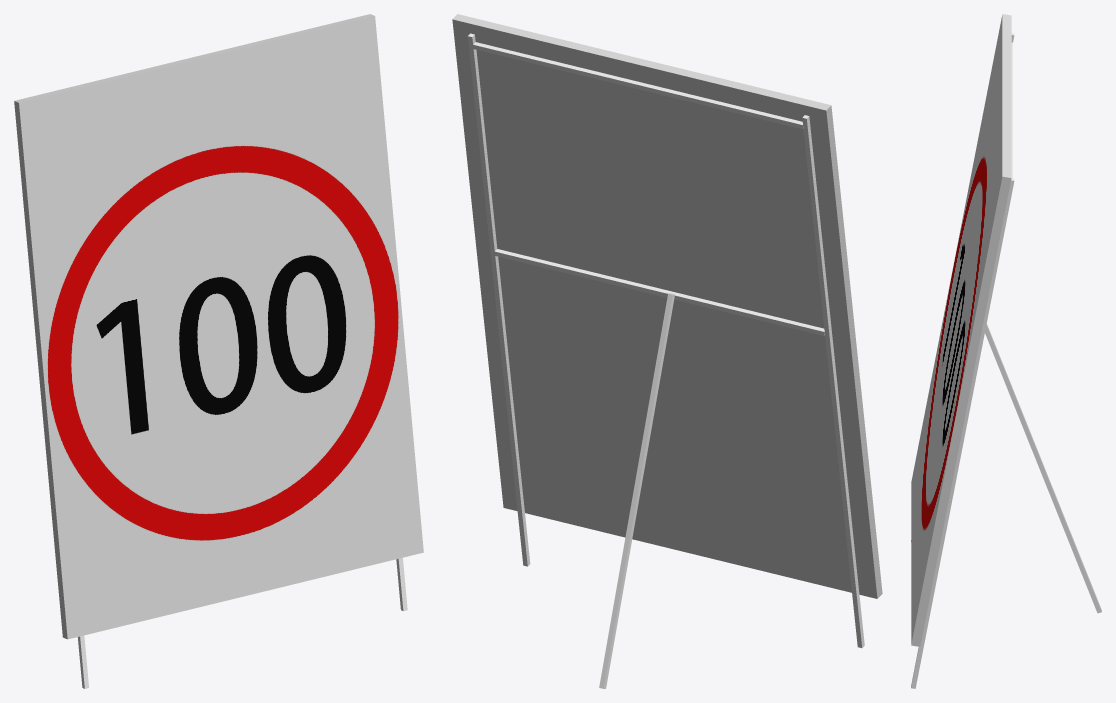
3 views of the same model, side by side, from view 1: azimuth 30°, elevation 25°; view 2: azimuth 150°, elevation 25°; view 3: azimuth 270°, elevation 25° (orthographic). The views are drawn at different scales.
Parts seen in each view (by area): view 1: 立方体-材质.3, 立方体-材质.5; view 2: 立方体-材质.5, 立方体.4, 立方体.3, 立方体.7, 立方体.5, 立方体.6; view 3: 立方体-材质.3, 立方体-材质.5, 立方体.3, 立方体.7.
Boxes of the visible parts, <box> form: 立方体-材质.3: <box>19,16,423,639</box>; 立方体-材质.5: <box>14,14,374,639</box>; 立方体-材质.5: <box>452,14,882,598</box>; 立方体.4: <box>802,115,864,647</box>; 立方体.3: <box>468,33,530,566</box>; 立方体.7: <box>599,293,674,688</box>; 立方体.5: <box>469,42,803,129</box>; 立方体.6: <box>491,249,824,336</box>; 立方体-材质.3: <box>911,15,1002,643</box>; 立方体-材质.5: <box>911,14,1011,646</box>; 立方体.3: <box>911,178,1014,688</box>; 立方体.7: <box>985,323,1101,613</box>.
Size of the model in its own units: 5.71 by 8.56 by 2.83.
Materials: 3 (1 with a texture image).
